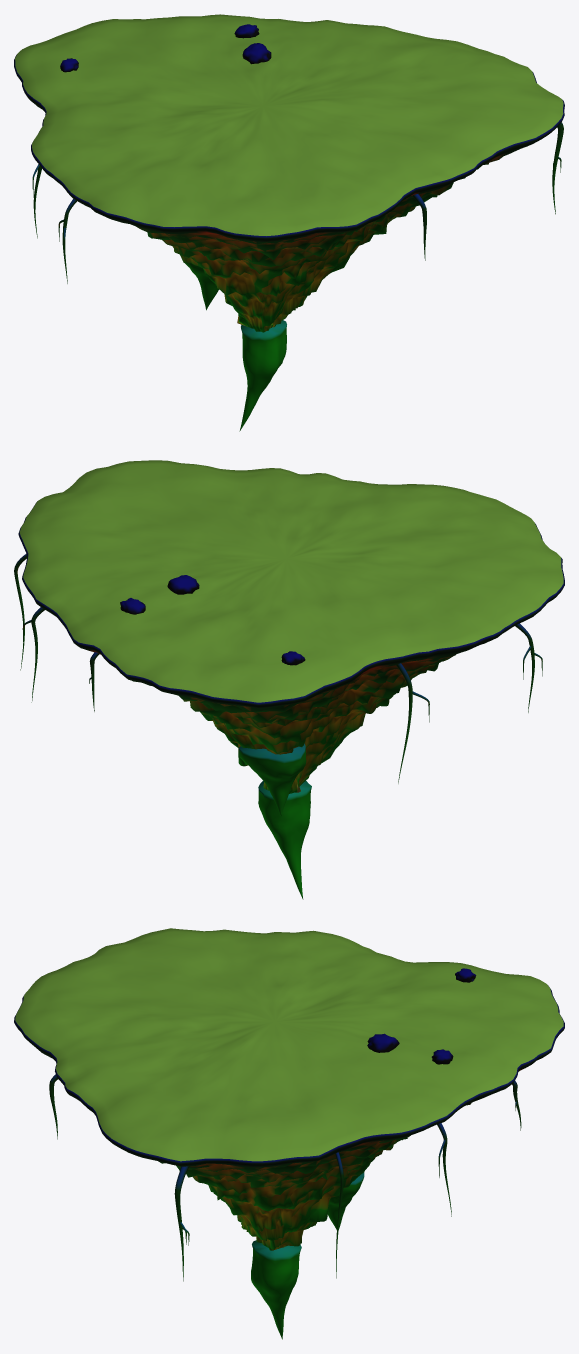
Rendered from SM_FloatingRock_A.glb.
3 renders of one model, top to bottom at view 1: azimuth 30°, elevation 25°; view 2: azimuth 150°, elevation 25°; view 3: azimuth 270°, elevation 25°, orthographic. The views are drawn at different scales.
Parts seen in each view (by area): view 1: SM_FloatingRock_A; view 2: SM_FloatingRock_A; view 3: SM_FloatingRock_A.
Part boxes in pixels (box(x1,y1,x2,y2)): SM_FloatingRock_A: box(14, 14, 564, 431); SM_FloatingRock_A: box(14, 460, 564, 899); SM_FloatingRock_A: box(14, 928, 564, 1339).
Size of the model in its own units: 13.44 by 8.93 by 13.22.
